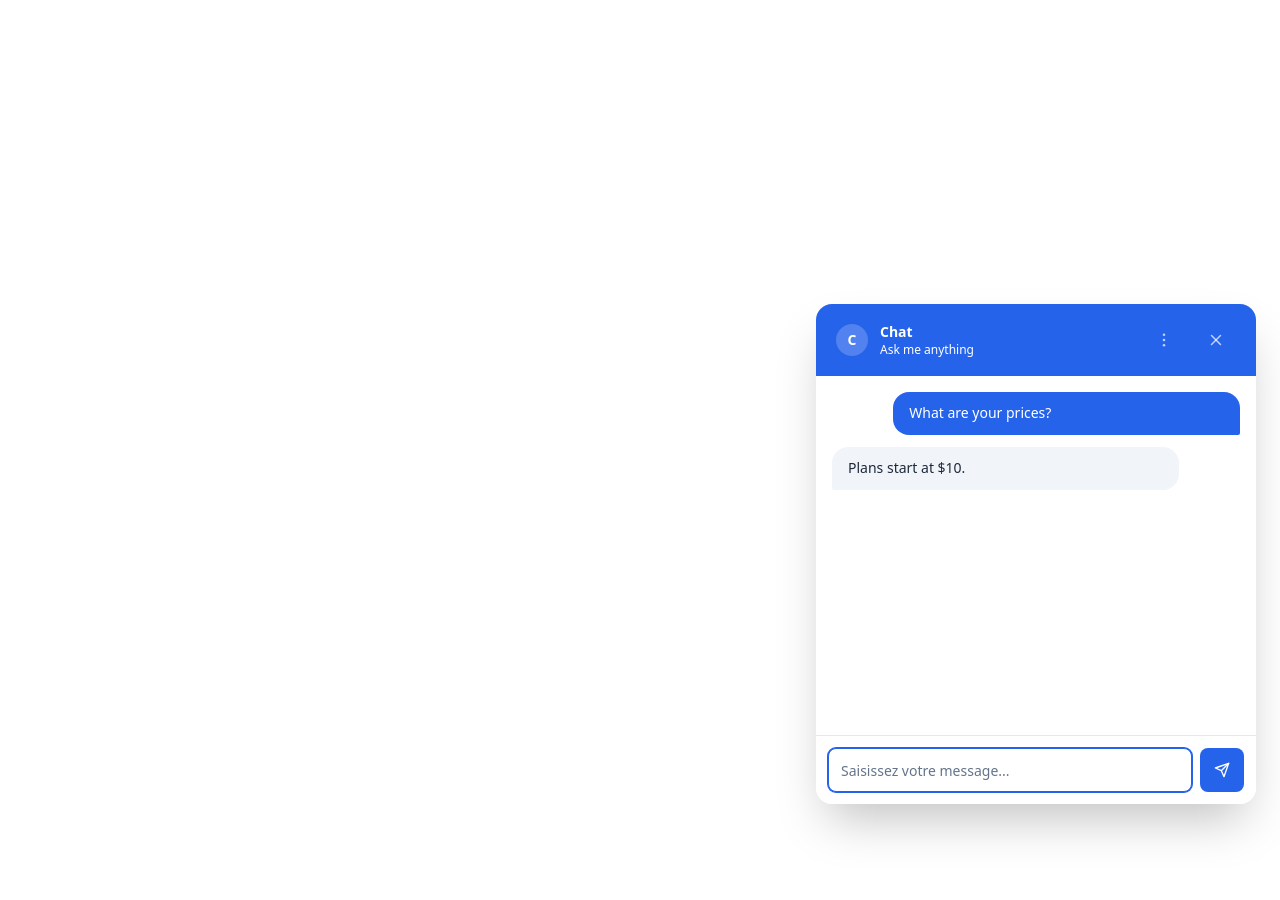
Scenario: ChatWindow conversation export › uses the translated labels
Click the button named "Plus d'options": (1164, 340) [1144,320,1184,360]
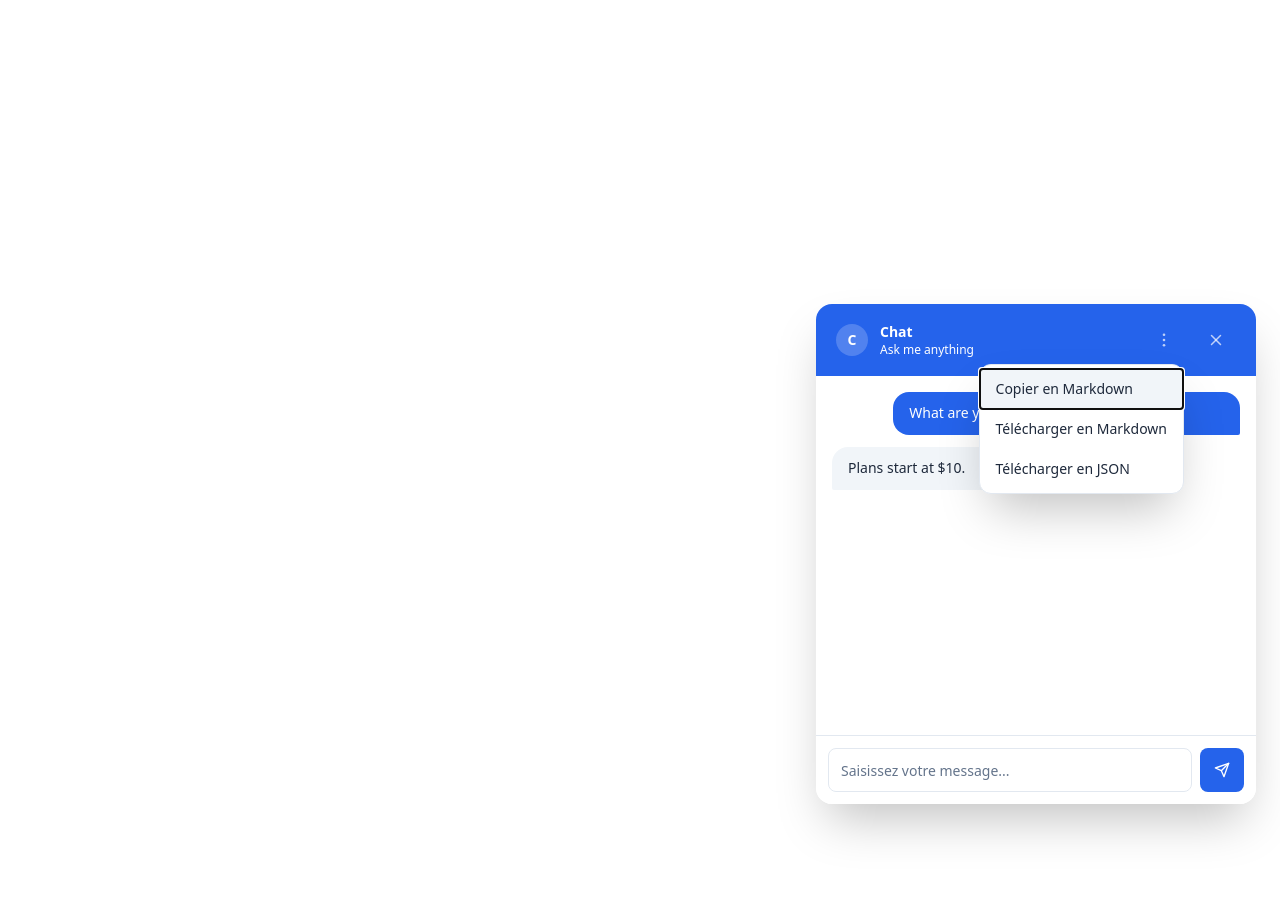
Expected: the menu item "Copier en Markdown" is shown, [980,369,1183,409]
